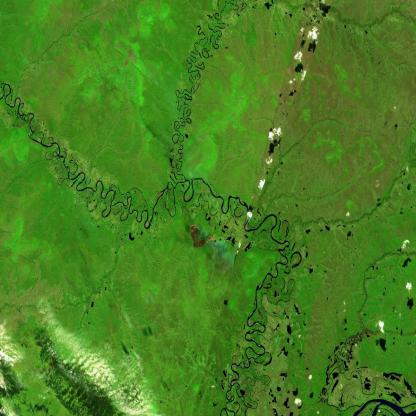fire: (187, 222, 217, 252)
